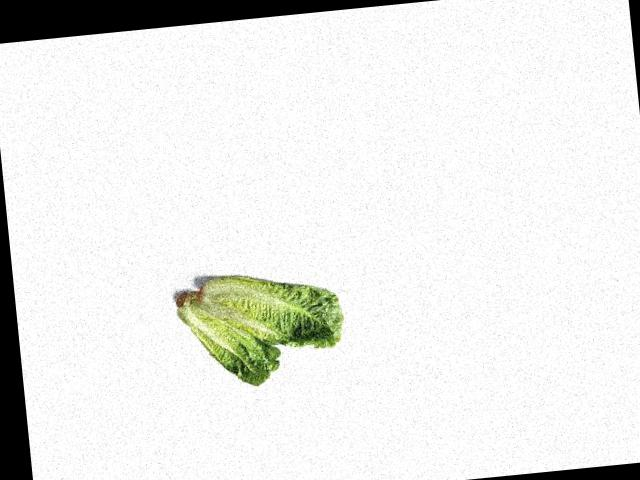lettuce: (176, 262, 350, 390)
